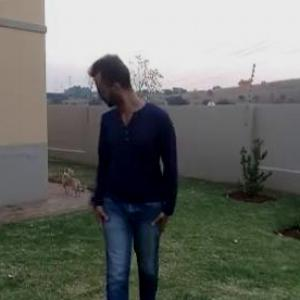follow: (87, 30, 176, 275)
